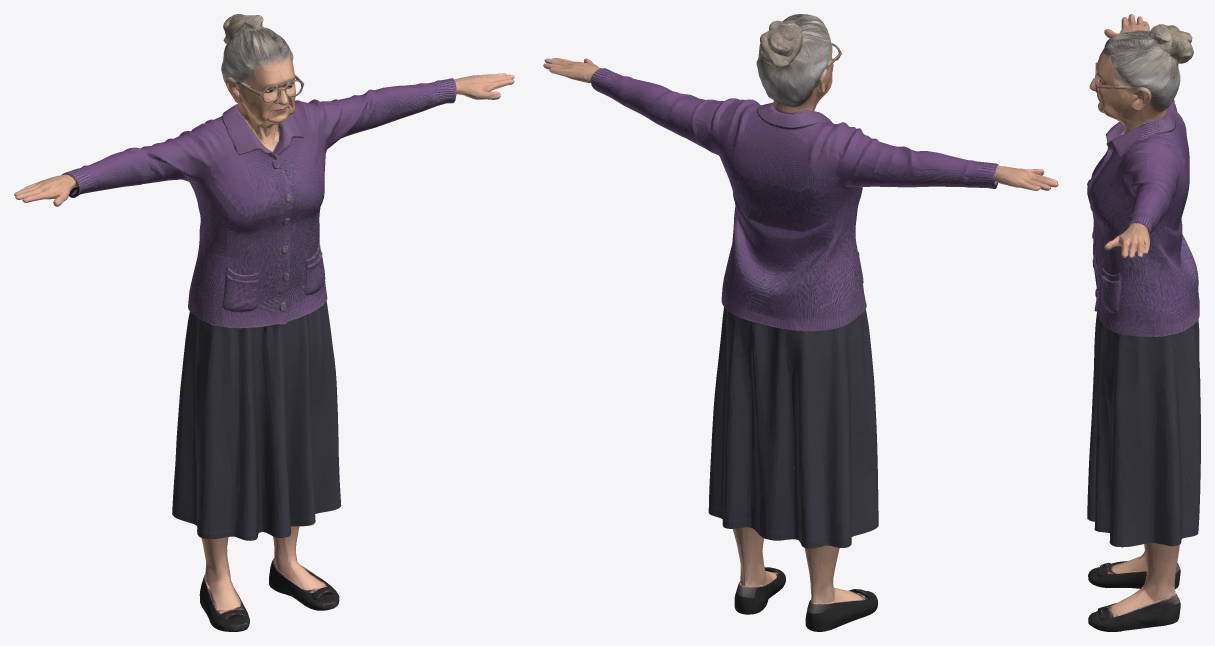
Rendered from ped_elder.glb.
The picture shows the model from 3 angles, left to right: view 1: azimuth 30°, elevation 25°; view 2: azimuth 150°, elevation 25°; view 3: azimuth 270°, elevation 25°; orthographic projection. The views are drawn at different scales.
Parts seen in each view (by area): view 1: Mesh_0; view 2: Mesh_0; view 3: Mesh_0.
Boxes of the visible parts, <box> form: Mesh_0: <box>14,14,514,631</box>; Mesh_0: <box>543,14,1058,631</box>; Mesh_0: <box>1087,14,1200,631</box>.
Bounding box in the file's own units: 1.71 × 1.9 × 0.3402.
Materials: 1 (1 with a texture image).
